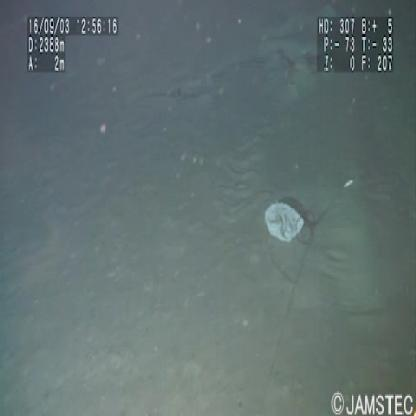Rác: (261, 197, 313, 248)
